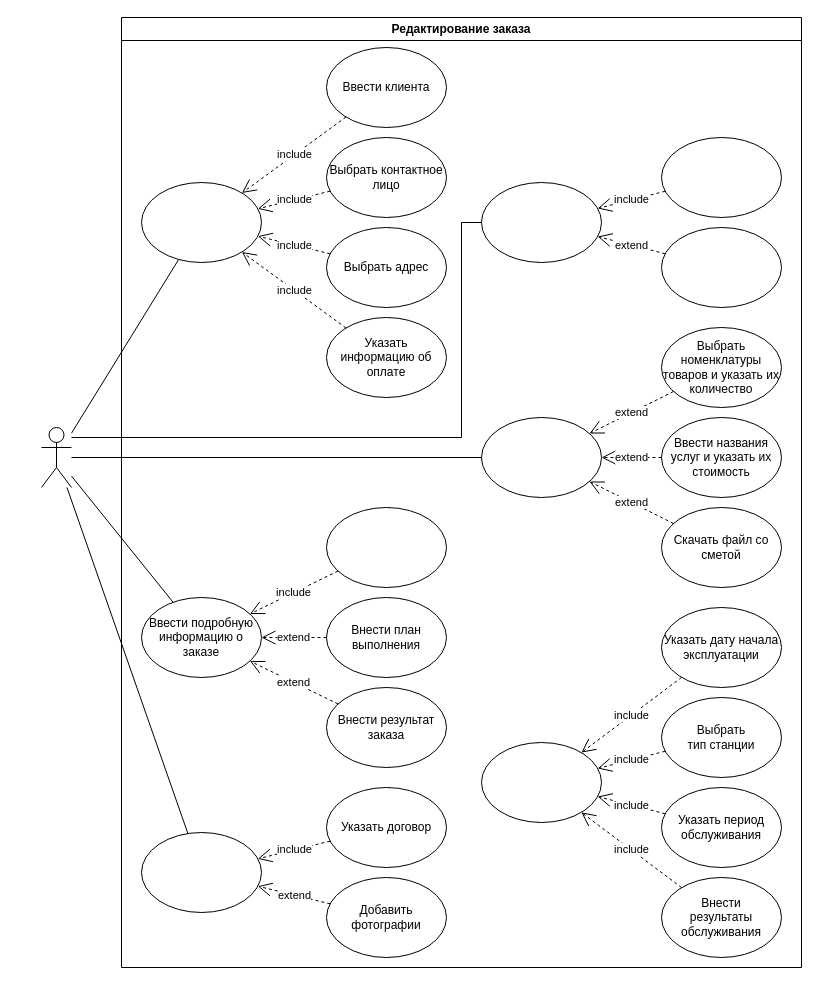
Image size: 819x985. Some labels were removed from this diagram. Each missing label, with the centre of its shape:
"Ввести дату и содержание" goes at (721,177).
"Ввести основную информацию о заказе" goes at (201,222).
"Ввести планируемые работы" goes at (721,267).
"Внести документы" goes at (201,872).
"Внести информацию о работах" goes at (541,222).
"Внести информацию о сервисном обслуживании" goes at (541,782).
"Внести смету" goes at (541,457).
"Пользователь" goes at (56,457).
"Указать содержание заказа" goes at (386,547).
